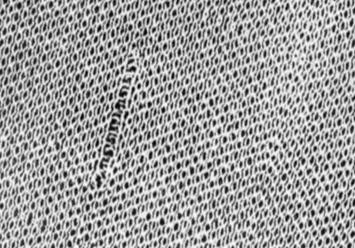slub: (87, 48, 149, 193)
